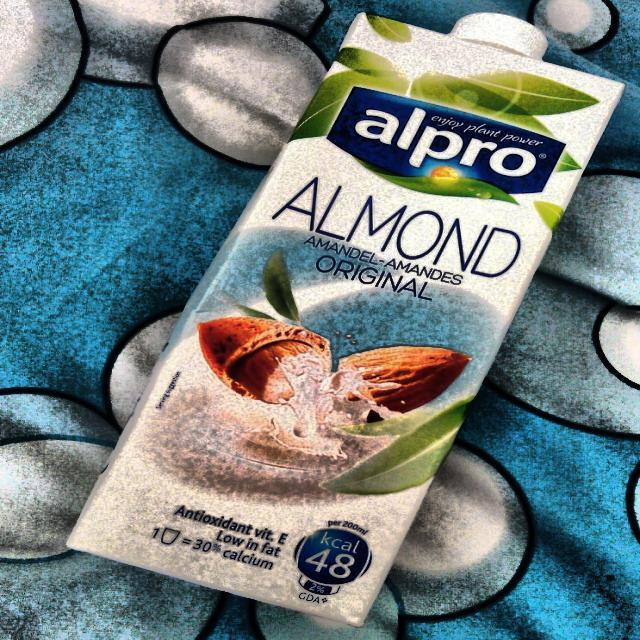cardboard: (64, 11, 626, 626)
